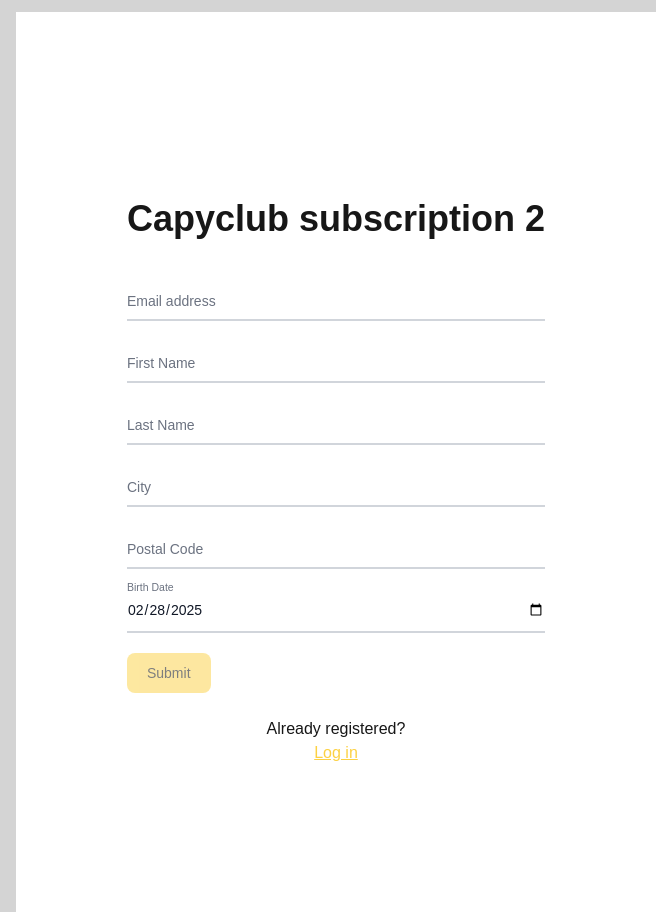
Test case: RegisterForm component › should submit the form and display success message
The width and height of the screenshot is (656, 912).
Type "john.doe@example.com" into the field with test id "email-input" at {"x": 336, "y": 300}, box [127,279,545,321]
Type "John" into the field with test id "first-name-input" at {"x": 336, "y": 362}, box [127,341,545,383]
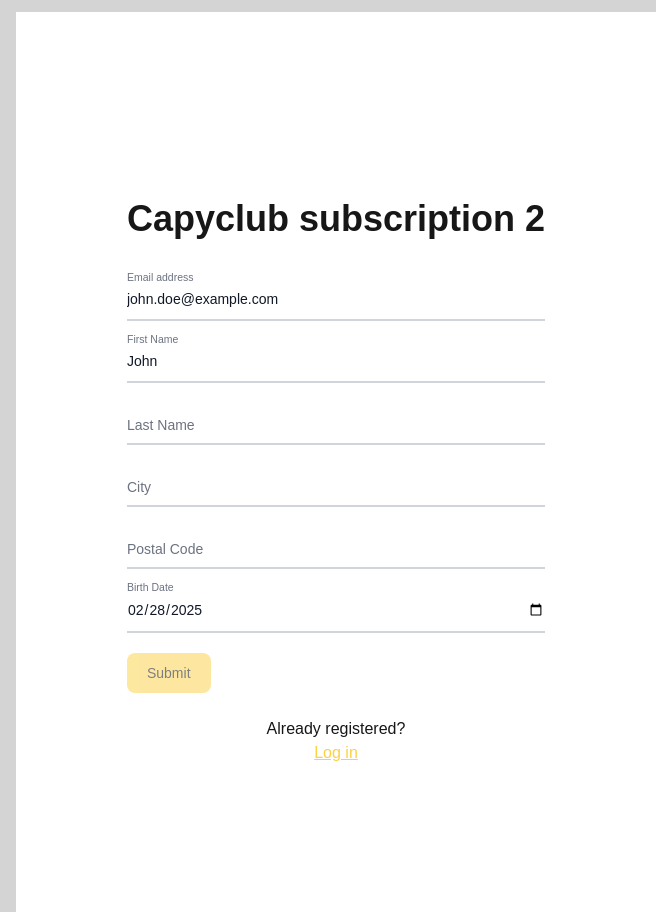
Type "Doe" into the field with test id "last-name-input" at {"x": 336, "y": 424}, box [127,403,545,445]
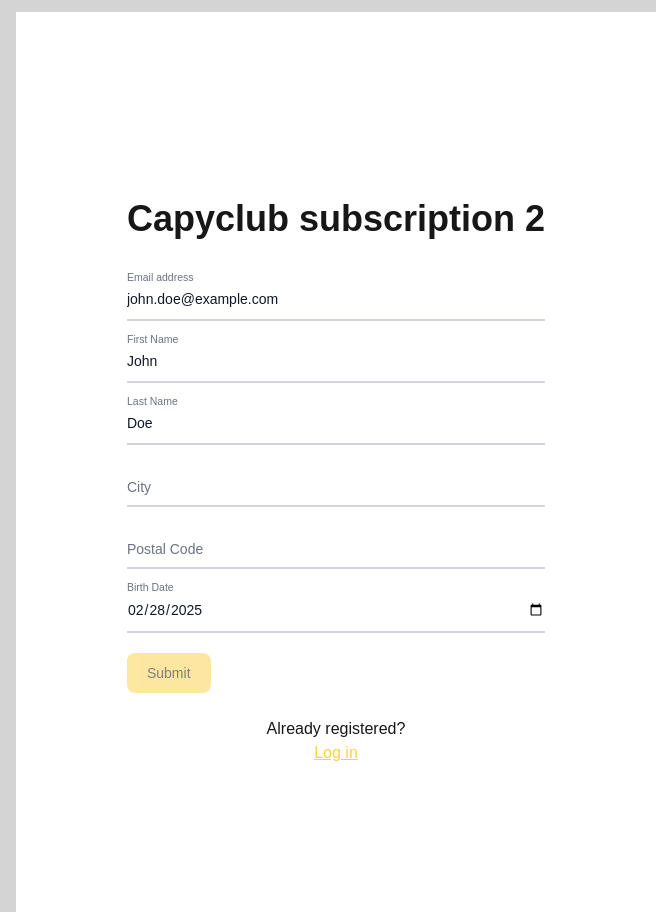
Type "City" into the field with test id "city-input" at {"x": 336, "y": 486}, box [127,465,545,507]
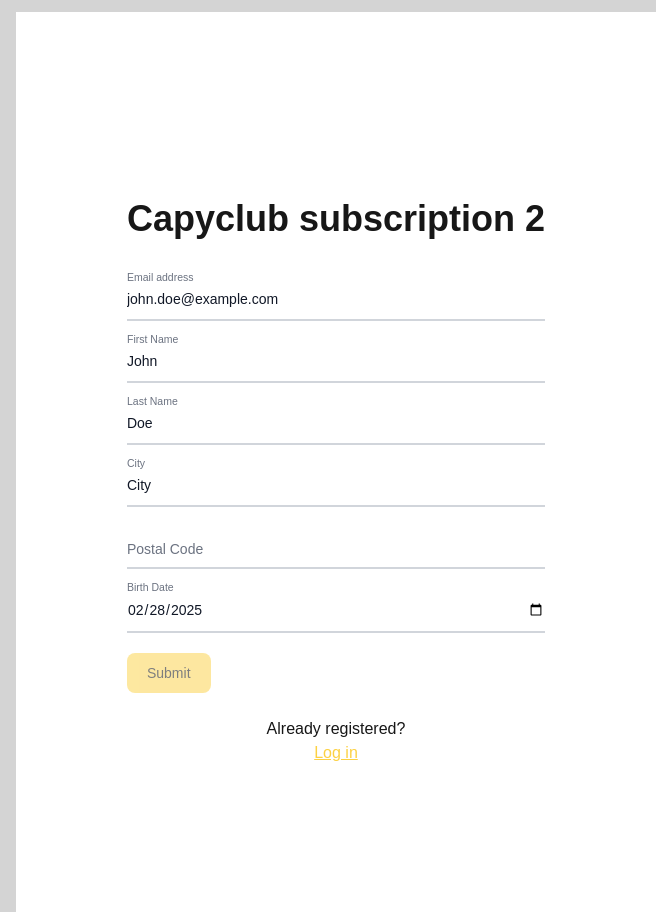
Type "12345" into the field with test id "postal-code-input" at {"x": 336, "y": 548}, box [127,527,545,569]
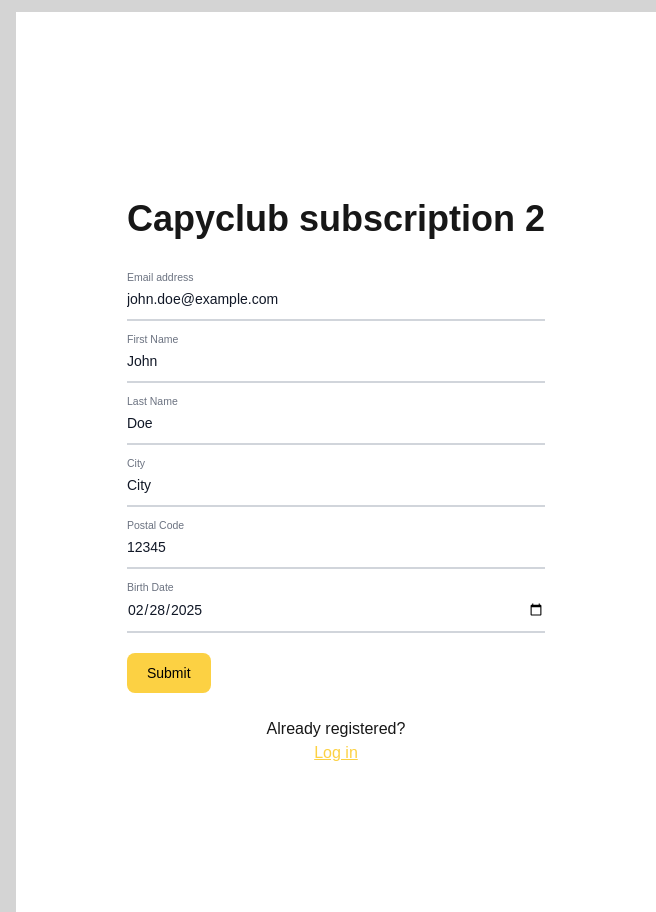
Type "2000-01-01" into the date field with test id "birth-date-input" at {"x": 336, "y": 611}, box [127,589,545,633]
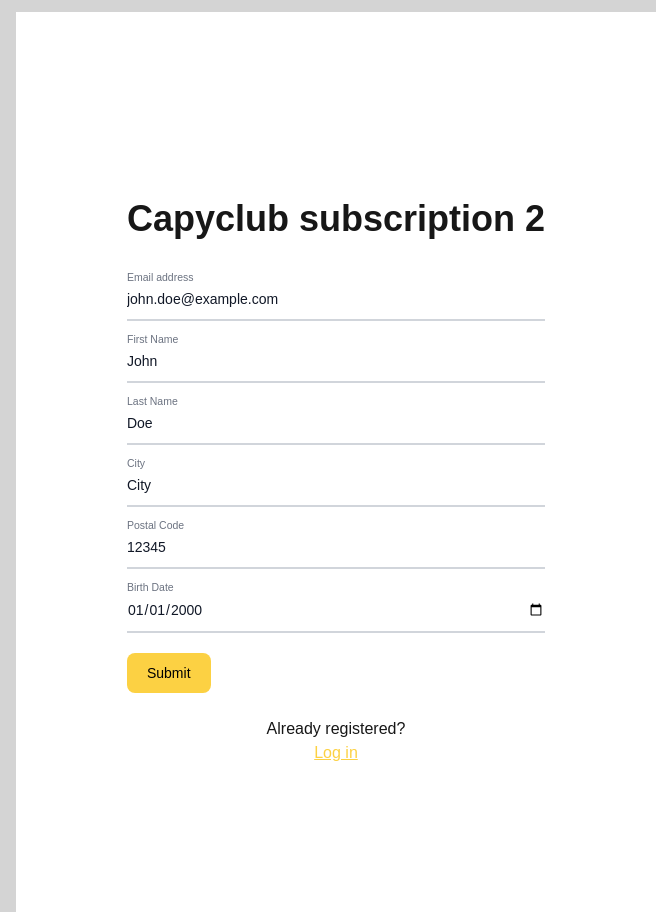
Click the button with test id "submit-button" at {"x": 169, "y": 673}, box [127,653,211,693]
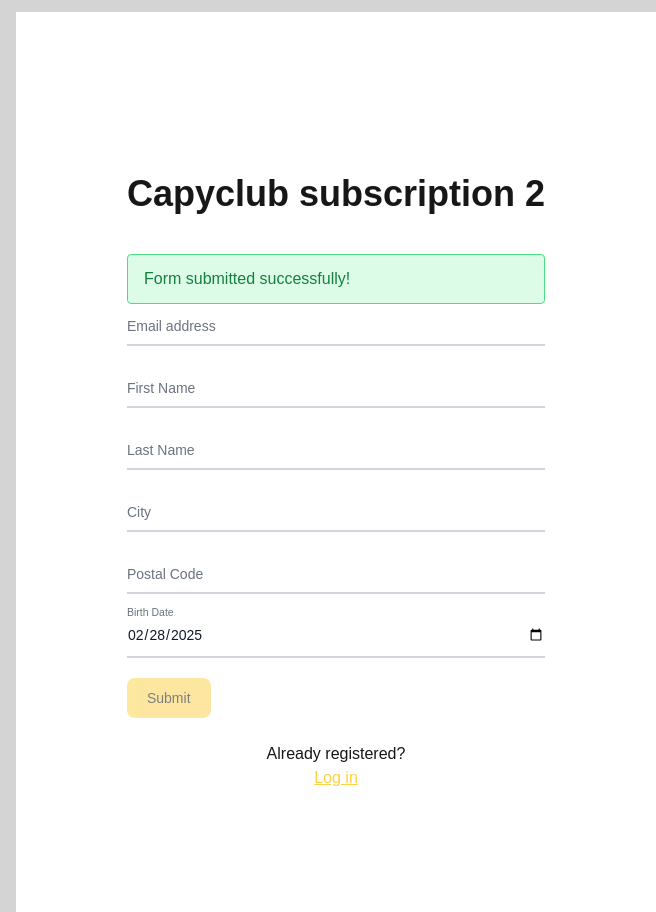
Expected: the text "Form submitted successfully!" is shown, [127,254,545,304]
